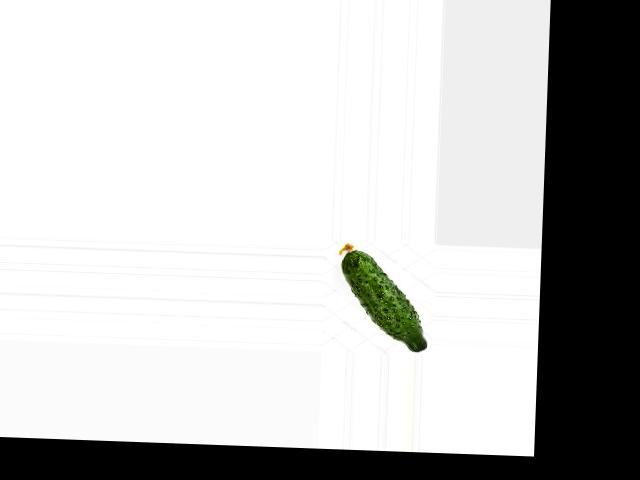cucumber: (336, 243, 431, 351)
